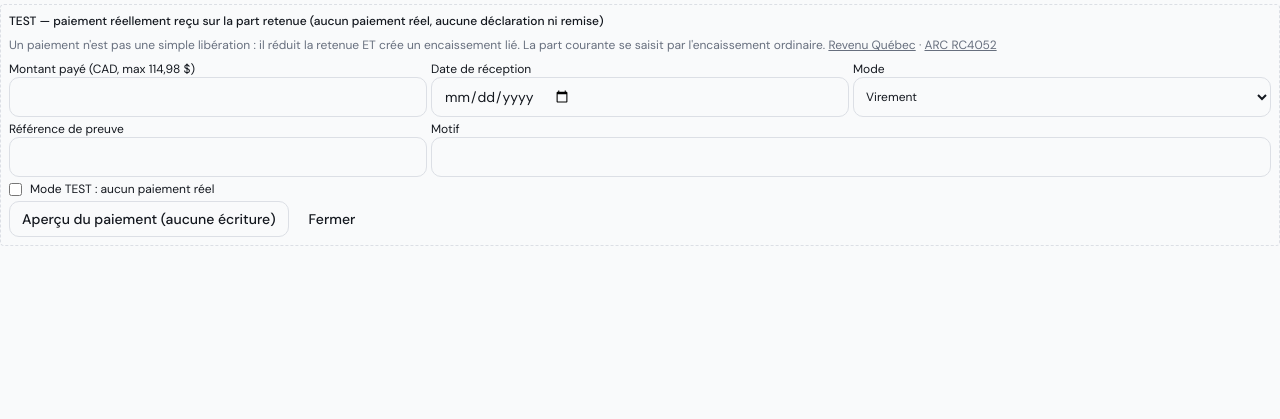
Test case: FIN-09C2B2A — écran simulé › stockage indisponible (accès refusé / écriture refusée / quota) : zéro paiement envoyé, saisie conservée
Earlier steps of the test are not shown.
Later steps or results of the test are not shown.
Type "4,48" into the field labelled "Montant payé" at (218, 97), box [9, 77, 427, 117]
Type "2026-09-05" into the date field labelled "Date de réception" at (640, 97), box [431, 77, 849, 117]
Type "VIR-1" into the field labelled "Référence de preuve" at (218, 157), box [9, 137, 427, 177]
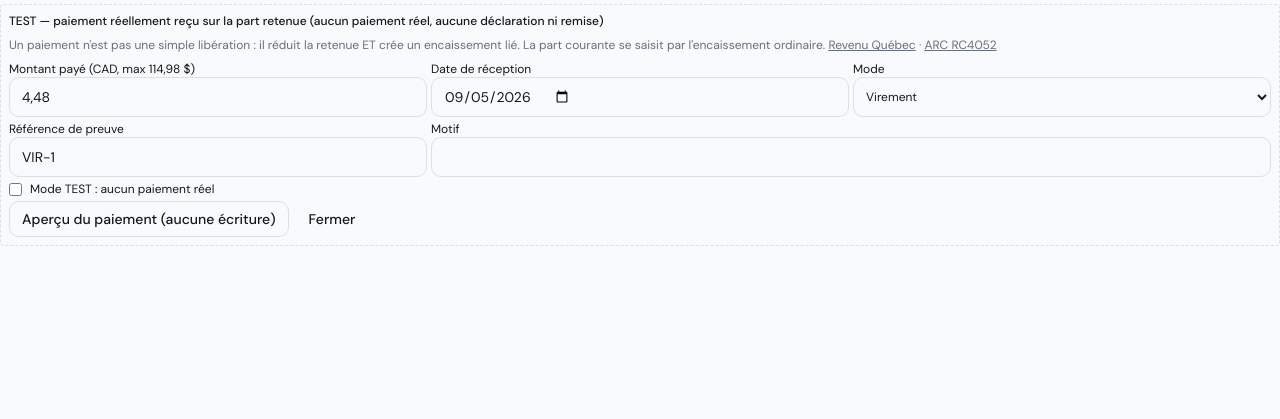
Type "Retenue" into the field named "Motif du paiement" at (851, 157), box [431, 137, 1271, 177]
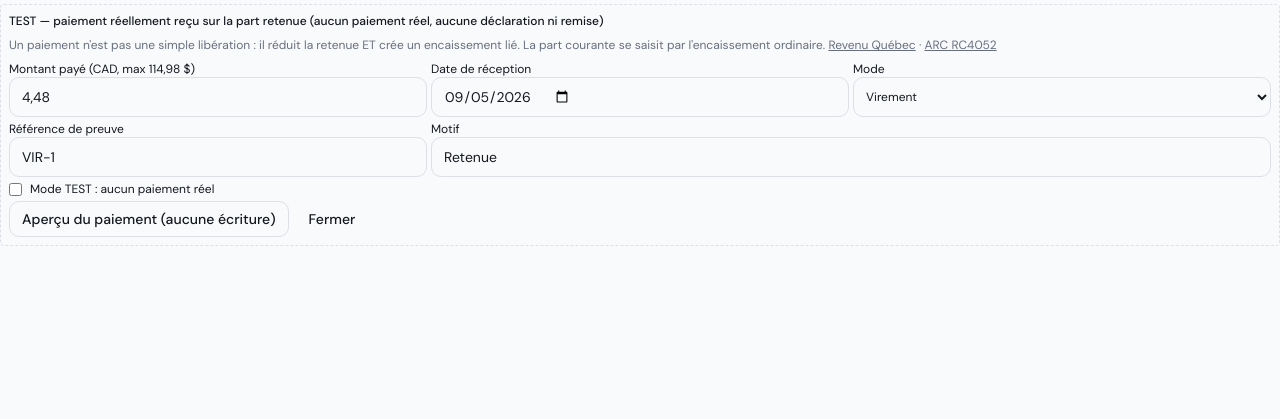
Click the checkbox labelled "Mode TEST : aucun paiement réel" at (16, 189), box [9, 182, 22, 196]
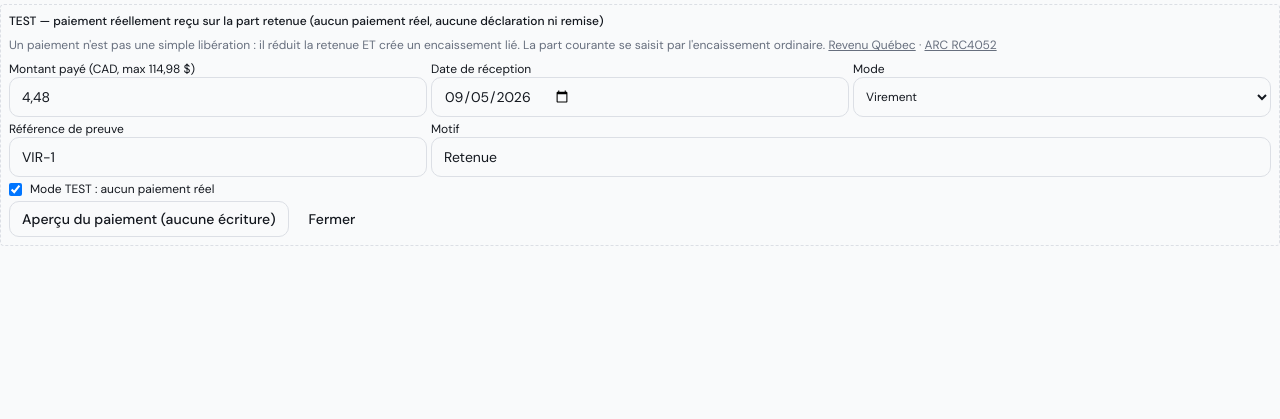
Click the button "Aperçu du paiement (aucune écriture)" at (149, 219), box [9, 201, 288, 237]
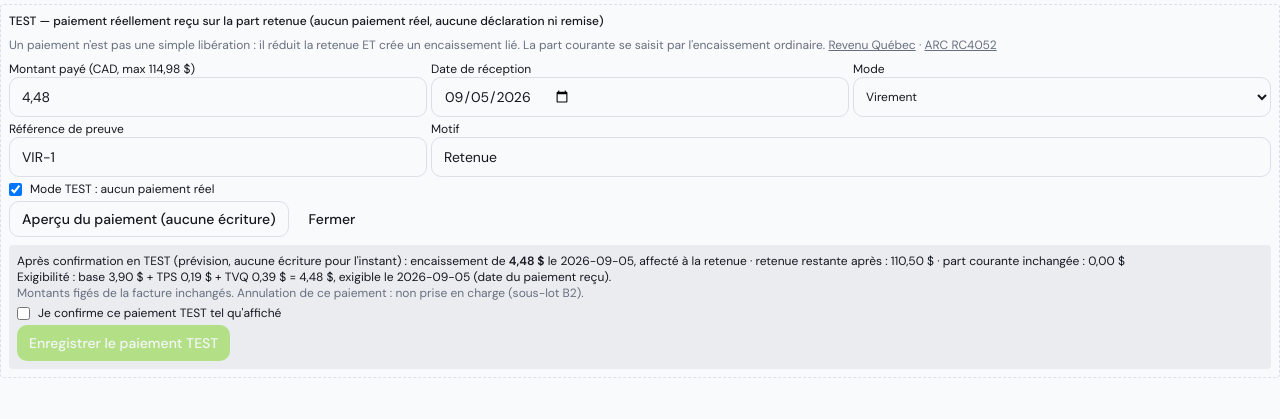
Expected: the element with test id "cpay-preview" is shown, [9, 245, 1271, 369]
Click the checkbox labelled "Je confirme ce paiement TEST tel qu'affiché" at (24, 313), box [17, 306, 30, 320]
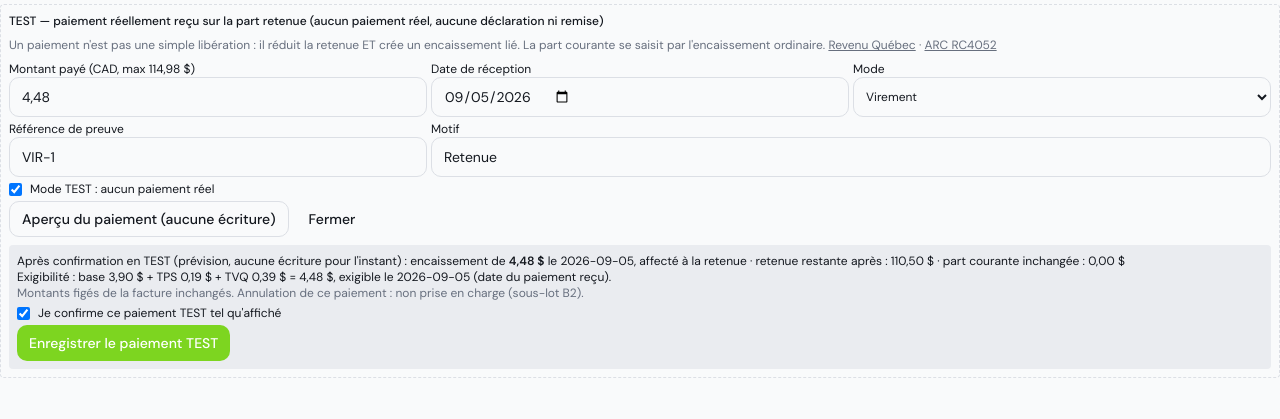
Click the button "Enregistrer le paiement TEST" at (124, 343), box [17, 325, 230, 361]
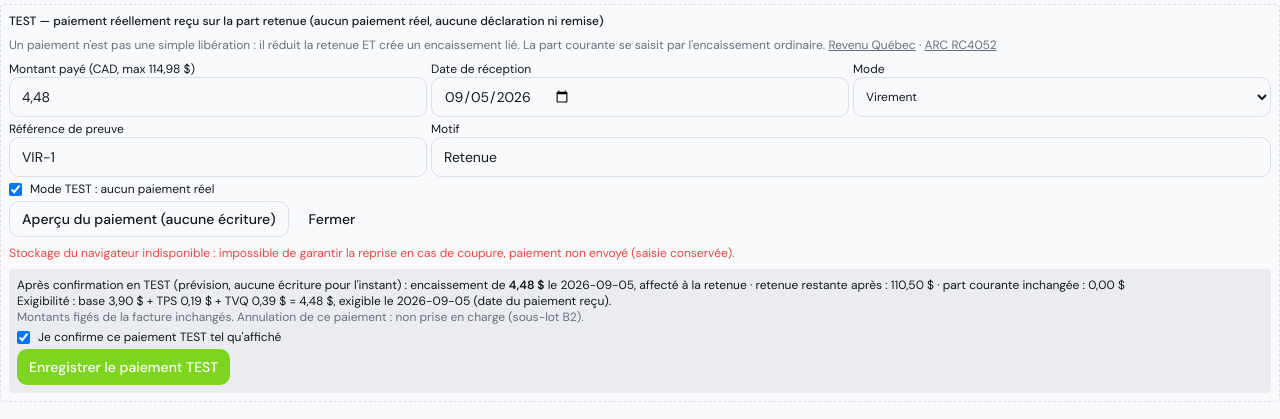
Expected: the text "Stockage du navigateur indisponible" is shown, [9, 245, 735, 261]
